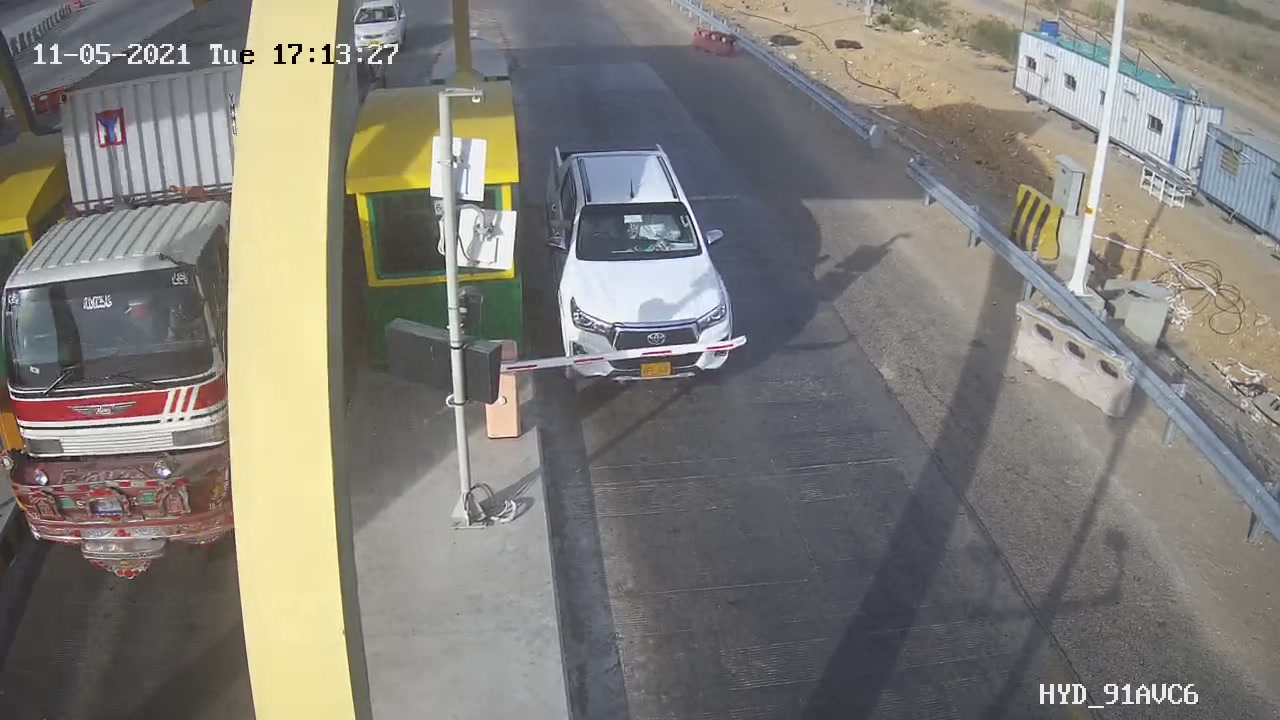F1: (525, 124, 750, 400)
